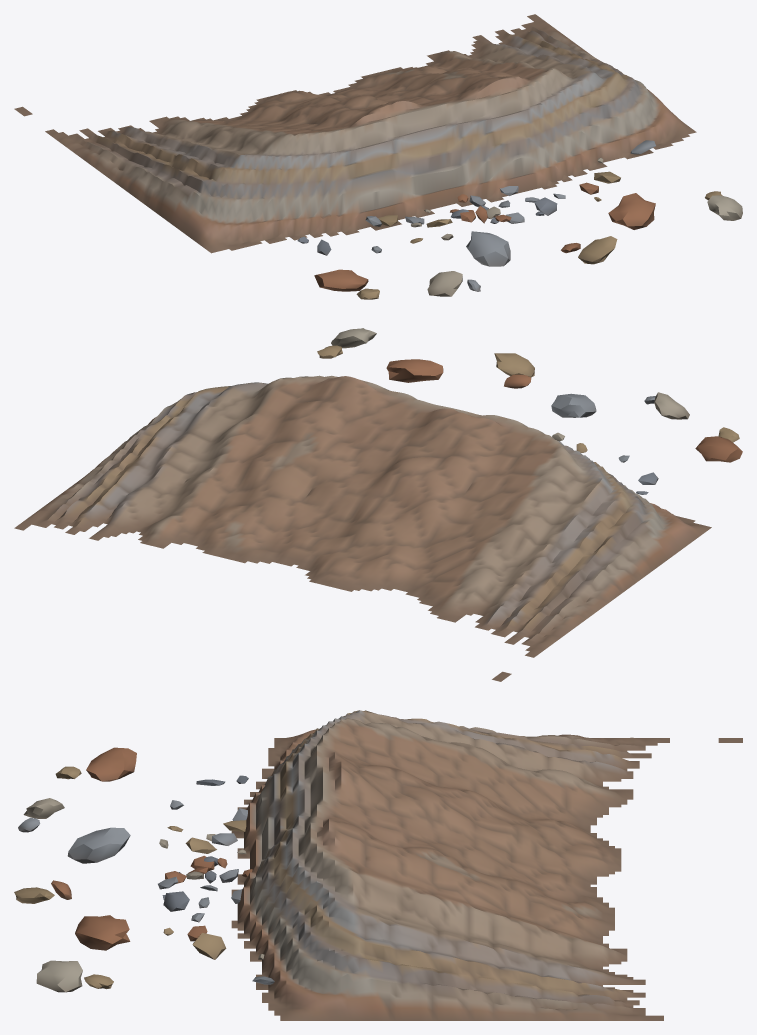
The model's file is dep_clay.glb.
The picture shows the model from 3 angles, top to bottom: view 1: azimuth 30°, elevation 25°; view 2: azimuth 150°, elevation 25°; view 3: azimuth 270°, elevation 25°; orthographic projection. The views are drawn at different scales.
Parts seen in each view (by area): view 1: dep_clay_mesh, block_2_mesh, block_4_mesh, block_0_mesh, block_3_mesh, block_1_mesh, block_5_mesh; view 2: dep_clay_mesh, block_4_mesh, block_0_mesh, block_3_mesh, block_2_mesh, block_5_mesh, block_1_mesh; view 3: dep_clay_mesh, block_5_mesh, block_2_mesh, block_0_mesh, block_4_mesh, block_1_mesh, block_3_mesh.
Part boxes in pixels (x1,y1,x2,y2): dep_clay_mesh: (14,14,696,255); block_2_mesh: (466,231,510,266); block_4_mesh: (608,193,655,229); block_0_mesh: (314,269,379,299); block_3_mesh: (561,236,617,264); block_1_mesh: (427,271,480,296); block_5_mesh: (705,191,742,220); dep_clay_mesh: (14,375,711,681); block_4_mesh: (386,359,443,382); block_0_mesh: (695,427,742,462); block_3_mesh: (494,353,534,388); block_2_mesh: (551,393,596,417); block_5_mesh: (317,328,376,358); block_1_mesh: (644,392,689,419); dep_clay_mesh: (158,710,742,1020); block_5_mesh: (36,960,113,992); block_2_mesh: (67,827,130,863); block_0_mesh: (55,747,136,781); block_4_mesh: (75,915,130,950); block_1_mesh: (18,798,64,832); block_3_mesh: (14,880,71,903).
Bounding box in the file's own units: 7.27 × 1.19 × 7.92.
